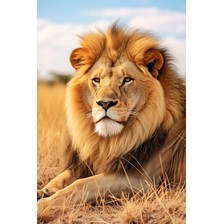lion: (57, 17, 185, 205)
